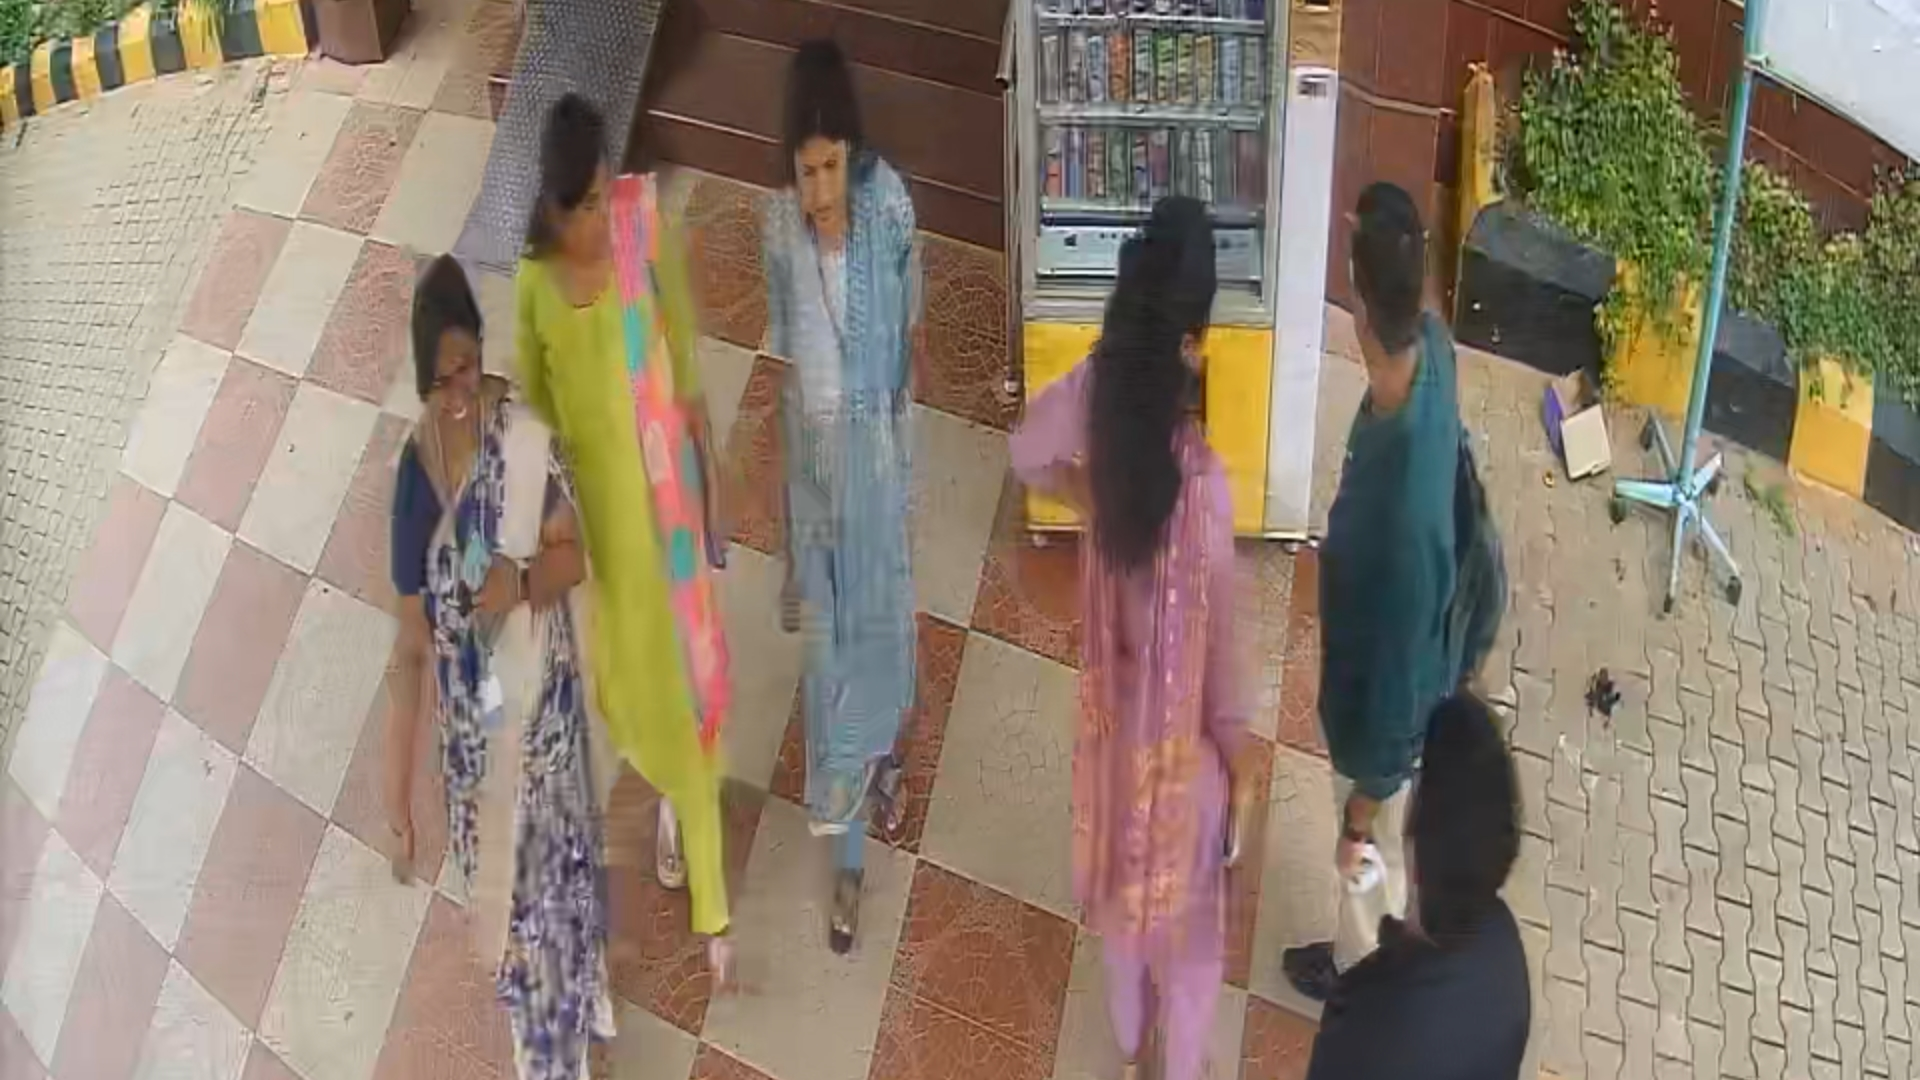intruder: (495, 80, 746, 948), (375, 248, 618, 1080), (746, 18, 935, 977)
